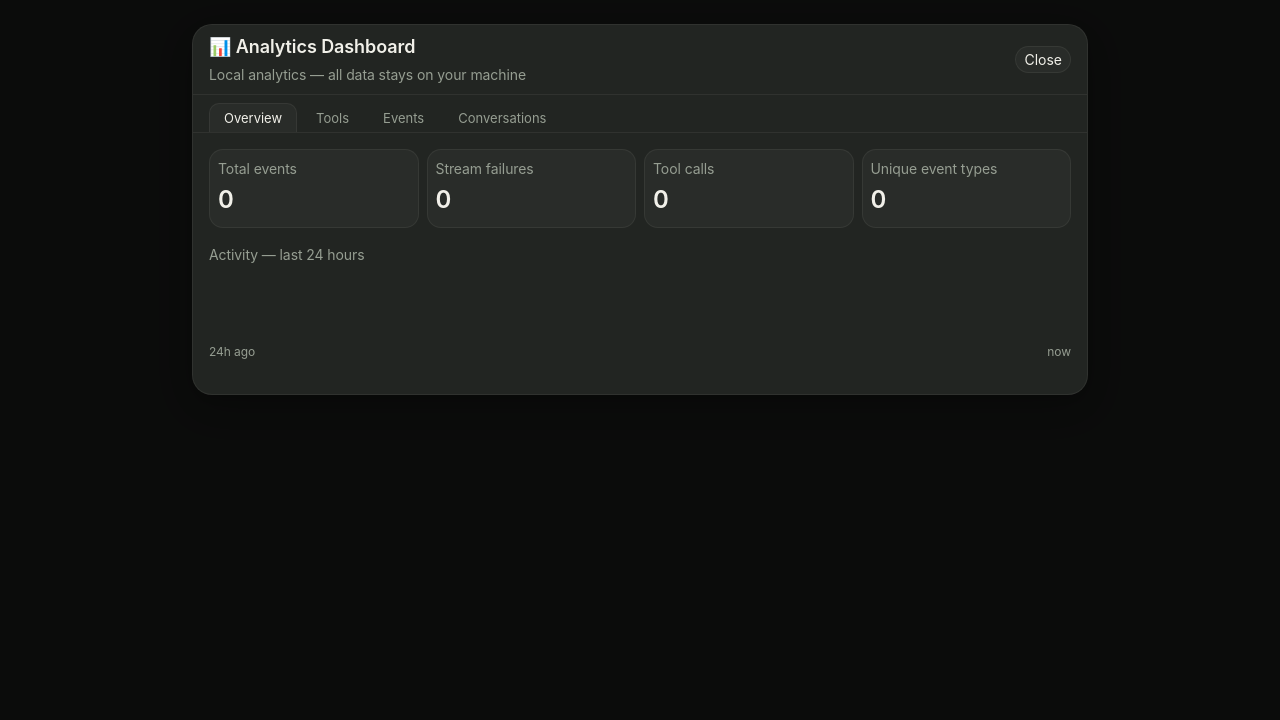
TelemetryDashboard — conversations tab › shows fallback when no summary is available
Click the button "Conversations": x=502, y=118 [443,103,561,132]
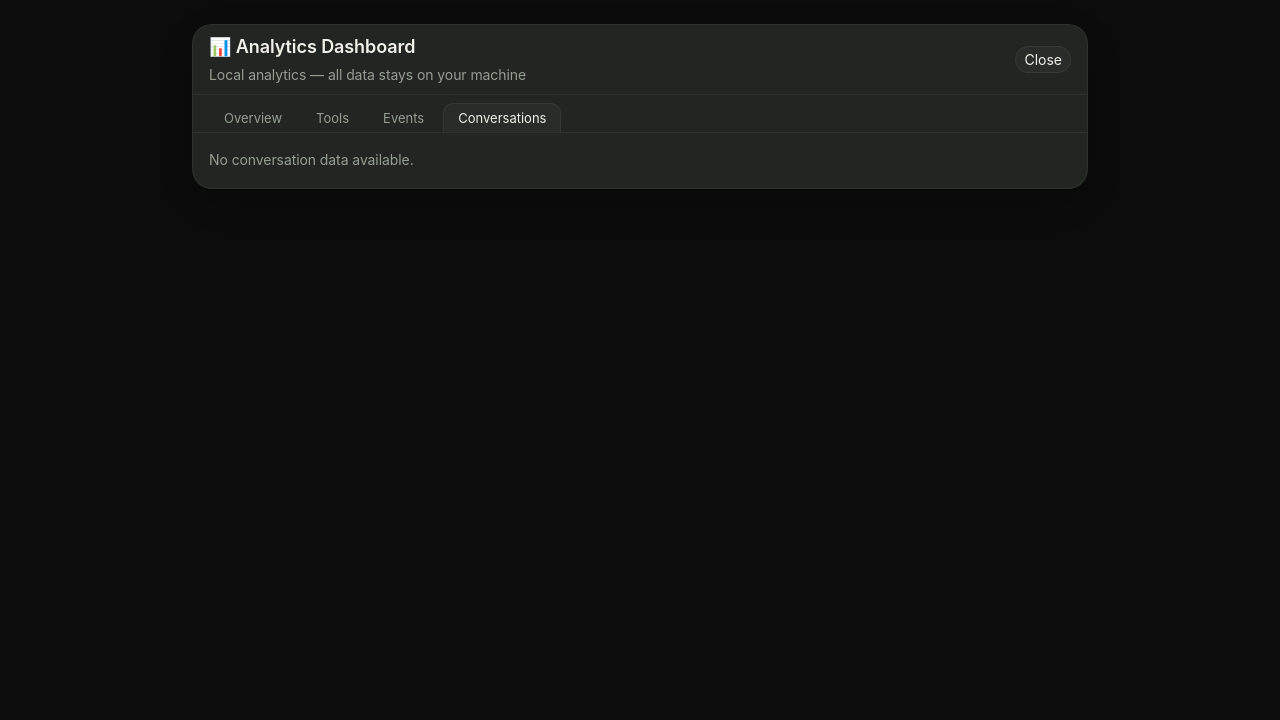
Now the text "No conversation data available." is shown, box [209,151,414,168]
